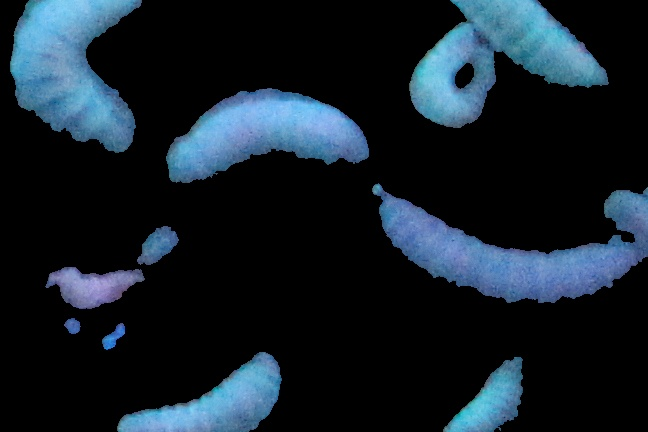larvae: (379, 185, 631, 310), (1, 1, 139, 151), (164, 87, 365, 178), (418, 1, 626, 80), (92, 351, 286, 432), (412, 27, 498, 125), (429, 354, 533, 432)
